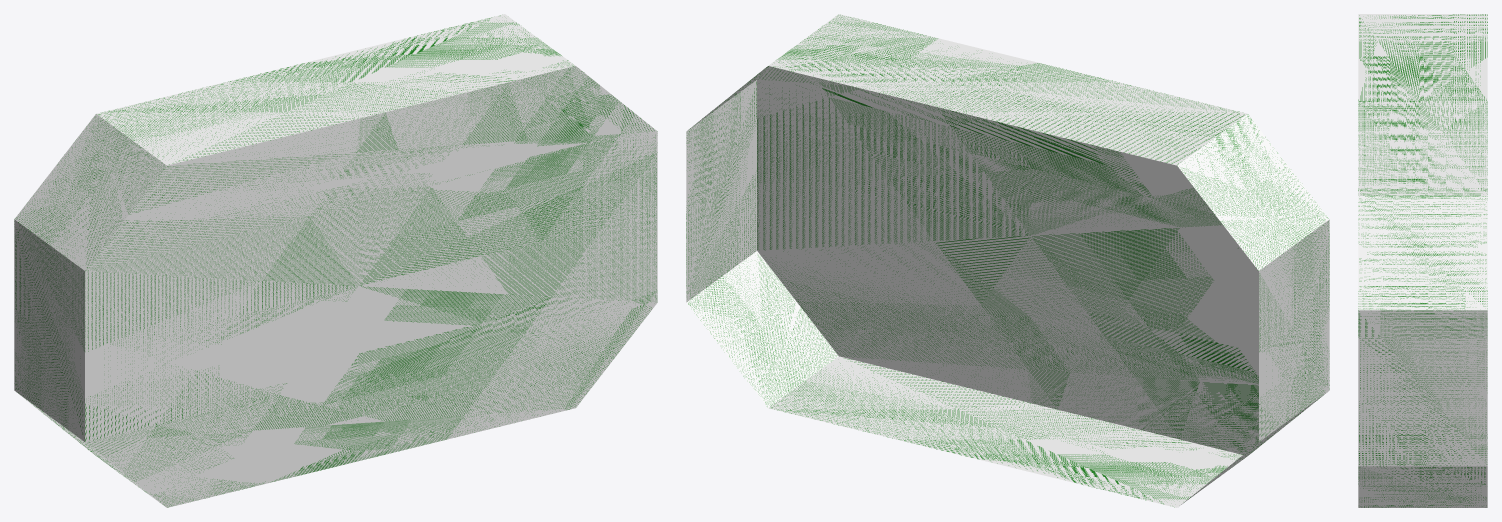
Rendered from original-167.obj.
3 views of the same model, side by side, from view 1: azimuth 30°, elevation 25°; view 2: azimuth 150°, elevation 25°; view 3: azimuth 270°, elevation 25° (orthographic). The views are drawn at different scales.
Parts seen in each view (by area): view 1: mesh238/mesh238-geometry#mesh238-geometry; view 2: mesh238/mesh238-geometry#mesh238-geometry; view 3: mesh238/mesh238-geometry#mesh238-geometry.
Boxes of the visible parts, x1,y1,x2,y2 form: mesh238/mesh238-geometry#mesh238-geometry: [14, 14, 657, 507]; mesh238/mesh238-geometry#mesh238-geometry: [686, 14, 1329, 507]; mesh238/mesh238-geometry#mesh238-geometry: [1358, 14, 1487, 507].
Bounding box in the file's own units: 0.0788 × 0.045 × 0.0169.
